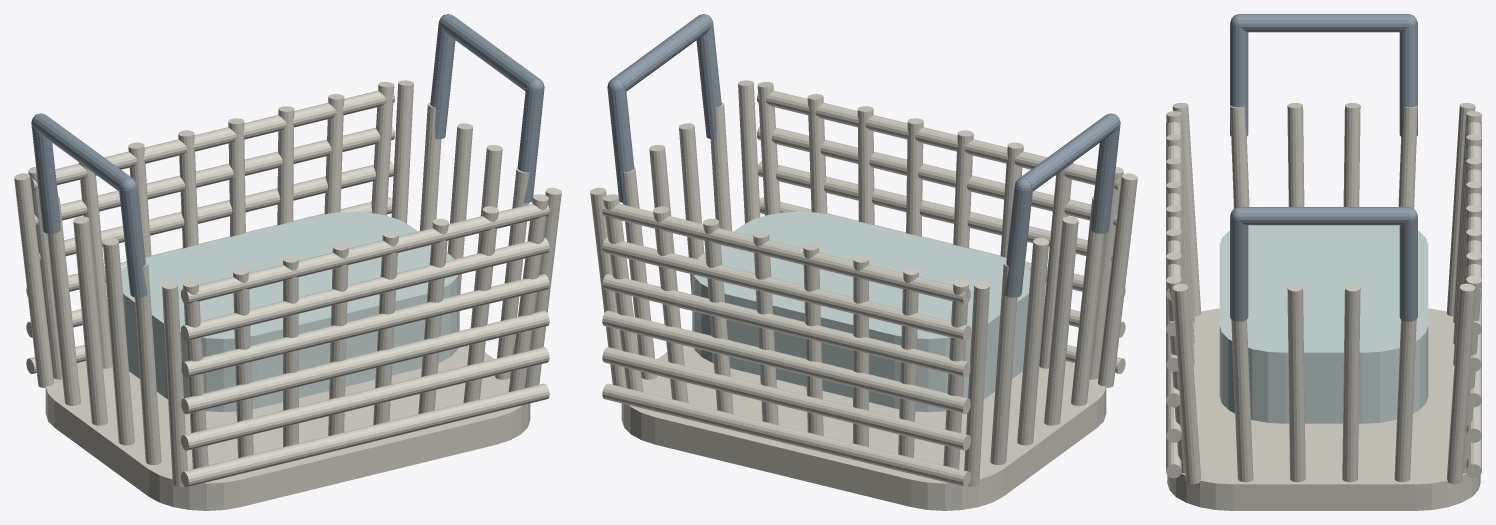
Rendered from woven_crate.glb.
3 renders of one model, left to right at view 1: azimuth 30°, elevation 25°; view 2: azimuth 150°, elevation 25°; view 3: azimuth 270°, elevation 25°, orthographic. The views are drawn at different scales.
Parts seen in each view (by area): view 1: decor_aaa493_matte, decor_9bb7b5_matte, decor_455665_metal; view 2: decor_aaa493_matte, decor_9bb7b5_matte, decor_455665_metal; view 3: decor_aaa493_matte, decor_9bb7b5_matte, decor_455665_metal.
Boxes of the visible parts, box(x1,y1,x2,y2) form: decor_aaa493_matte: box(14, 80, 561, 510); decor_9bb7b5_matte: box(121, 211, 459, 411); decor_455665_metal: box(31, 14, 544, 297); decor_aaa493_matte: box(590, 80, 1137, 510); decor_9bb7b5_matte: box(692, 211, 1030, 411); decor_455665_metal: box(607, 14, 1120, 297); decor_aaa493_matte: box(1166, 103, 1481, 510); decor_9bb7b5_matte: box(1219, 225, 1428, 423); decor_455665_metal: box(1230, 14, 1417, 321).
Bounding box in the file's own units: 0.728 × 0.5265 × 0.484.
